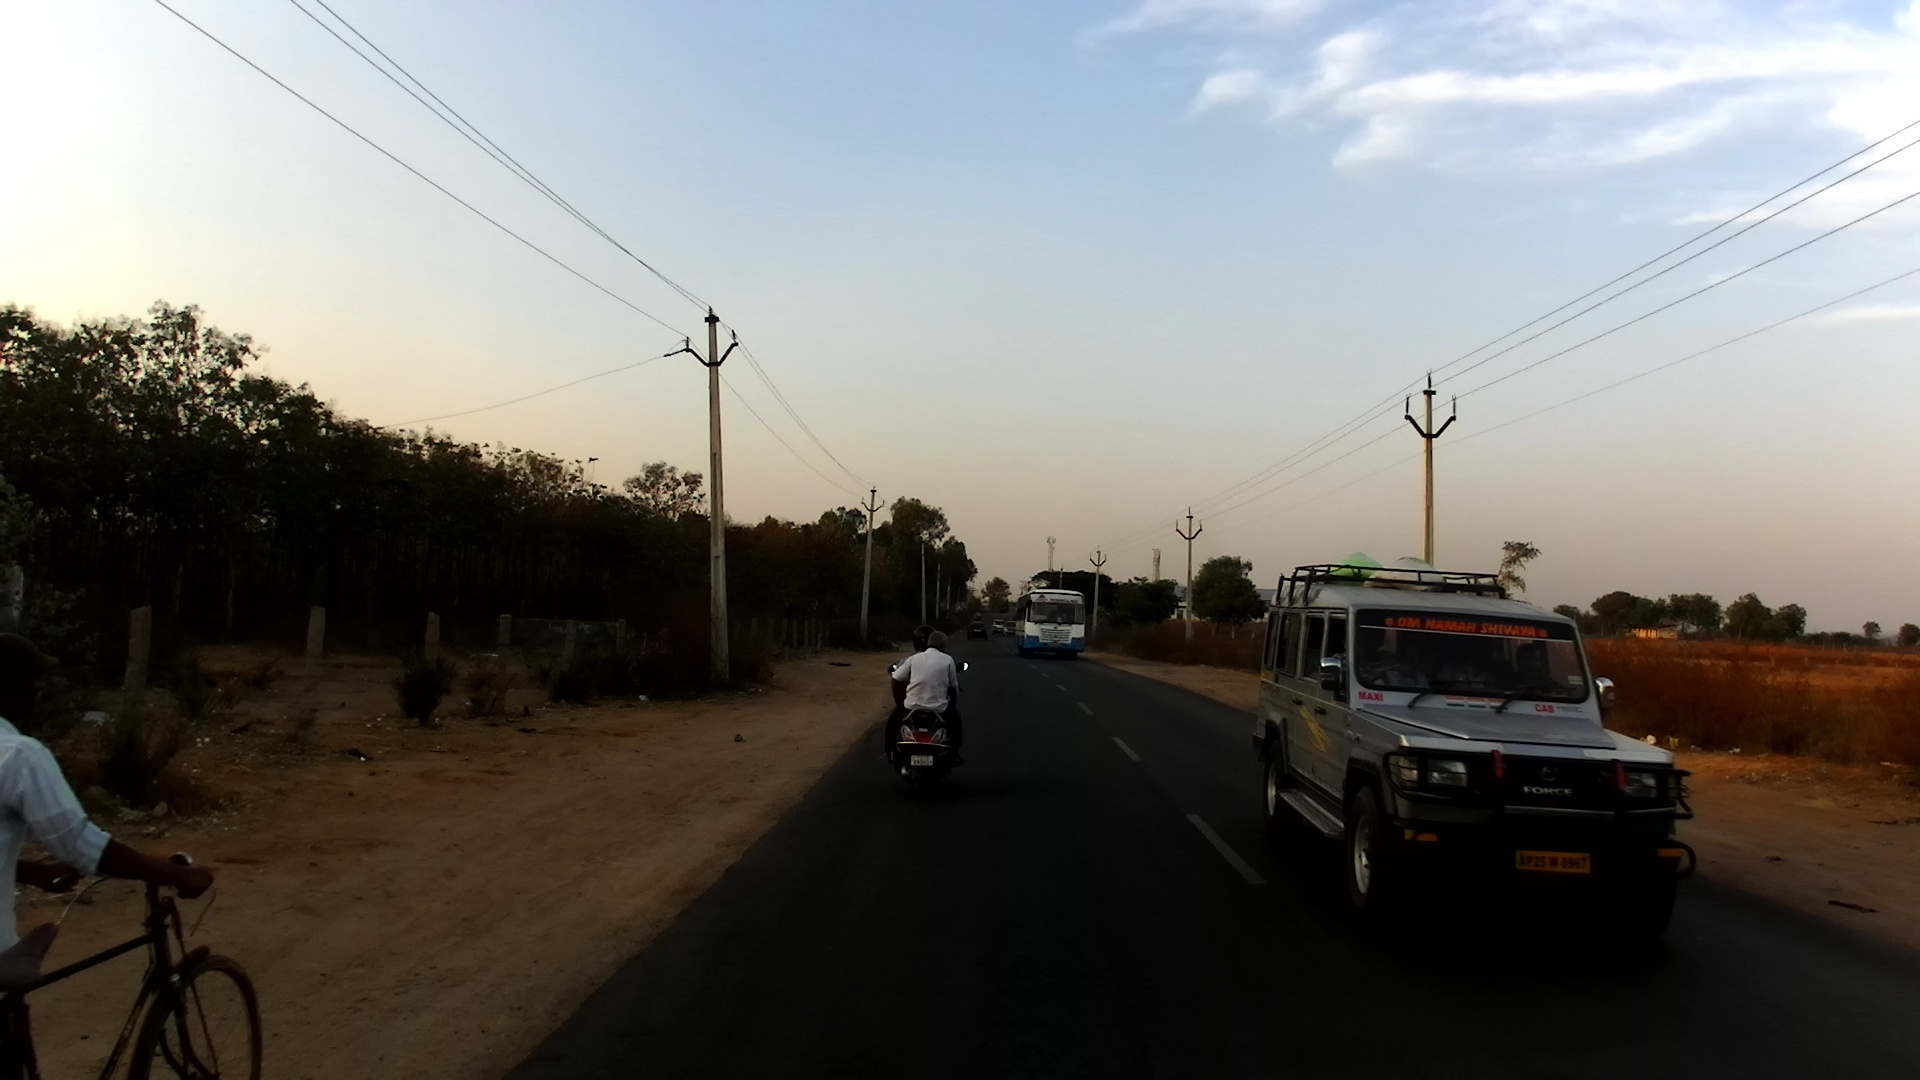bicycle: (3, 842, 268, 1080)
bus: (1014, 588, 1086, 658)
car: (1252, 554, 1698, 929), (966, 620, 986, 639), (991, 618, 1006, 636), (1003, 620, 1017, 637)
motorcycle: (887, 662, 971, 798)
rider: (1, 624, 219, 1080), (881, 631, 980, 770), (889, 628, 962, 735)
